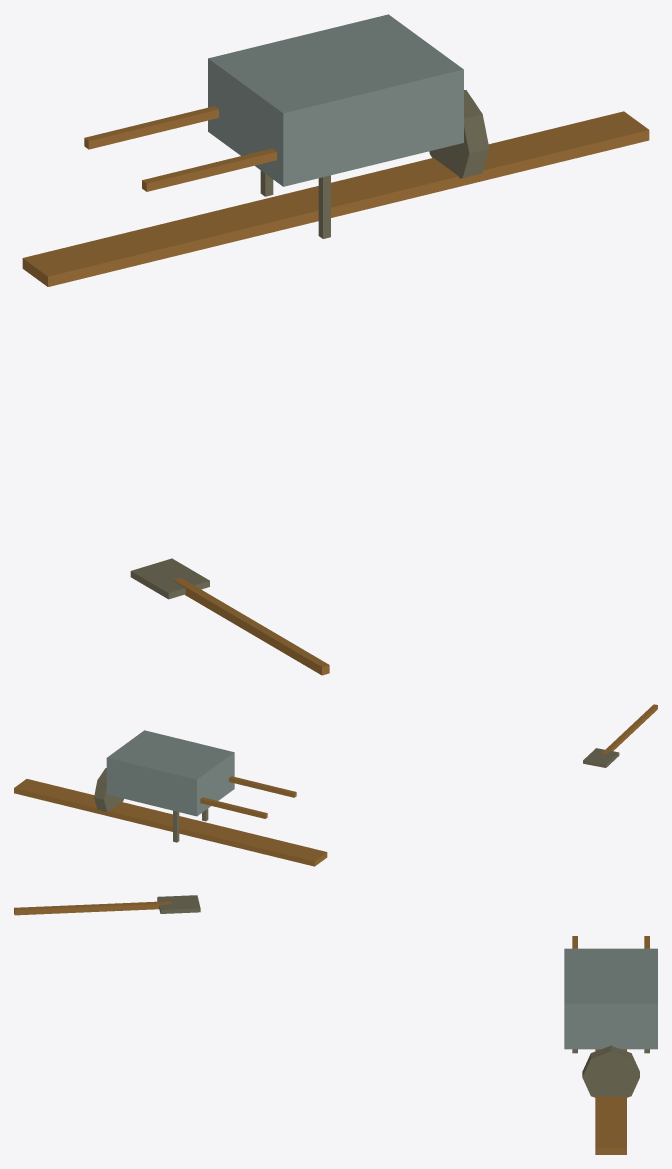
Rendered from SM_ObraHerramientas_v4_10m_LOD0.fbx.
The picture shows the model from 3 angles, top to bottom: view 1: azimuth 30°, elevation 25°; view 2: azimuth 150°, elevation 25°; view 3: azimuth 270°, elevation 25°; orthographic projection. The views are drawn at different scales.
Parts seen in each view (by area): view 1: SM_obra_curso_v19_LOD0; view 2: SM_obra_curso_v19_LOD0; view 3: SM_obra_curso_v19_LOD0.
Boxes of the visible parts, left/top/right/bottom form: SM_obra_curso_v19_LOD0: left=22, top=14, right=649, bottom=675; SM_obra_curso_v19_LOD0: left=14, top=704, right=657, bottom=866; SM_obra_curso_v19_LOD0: left=14, top=895, right=657, bottom=1154.
Bounding box in the file's own units: 4.18 × 0.675 × 4.47.
